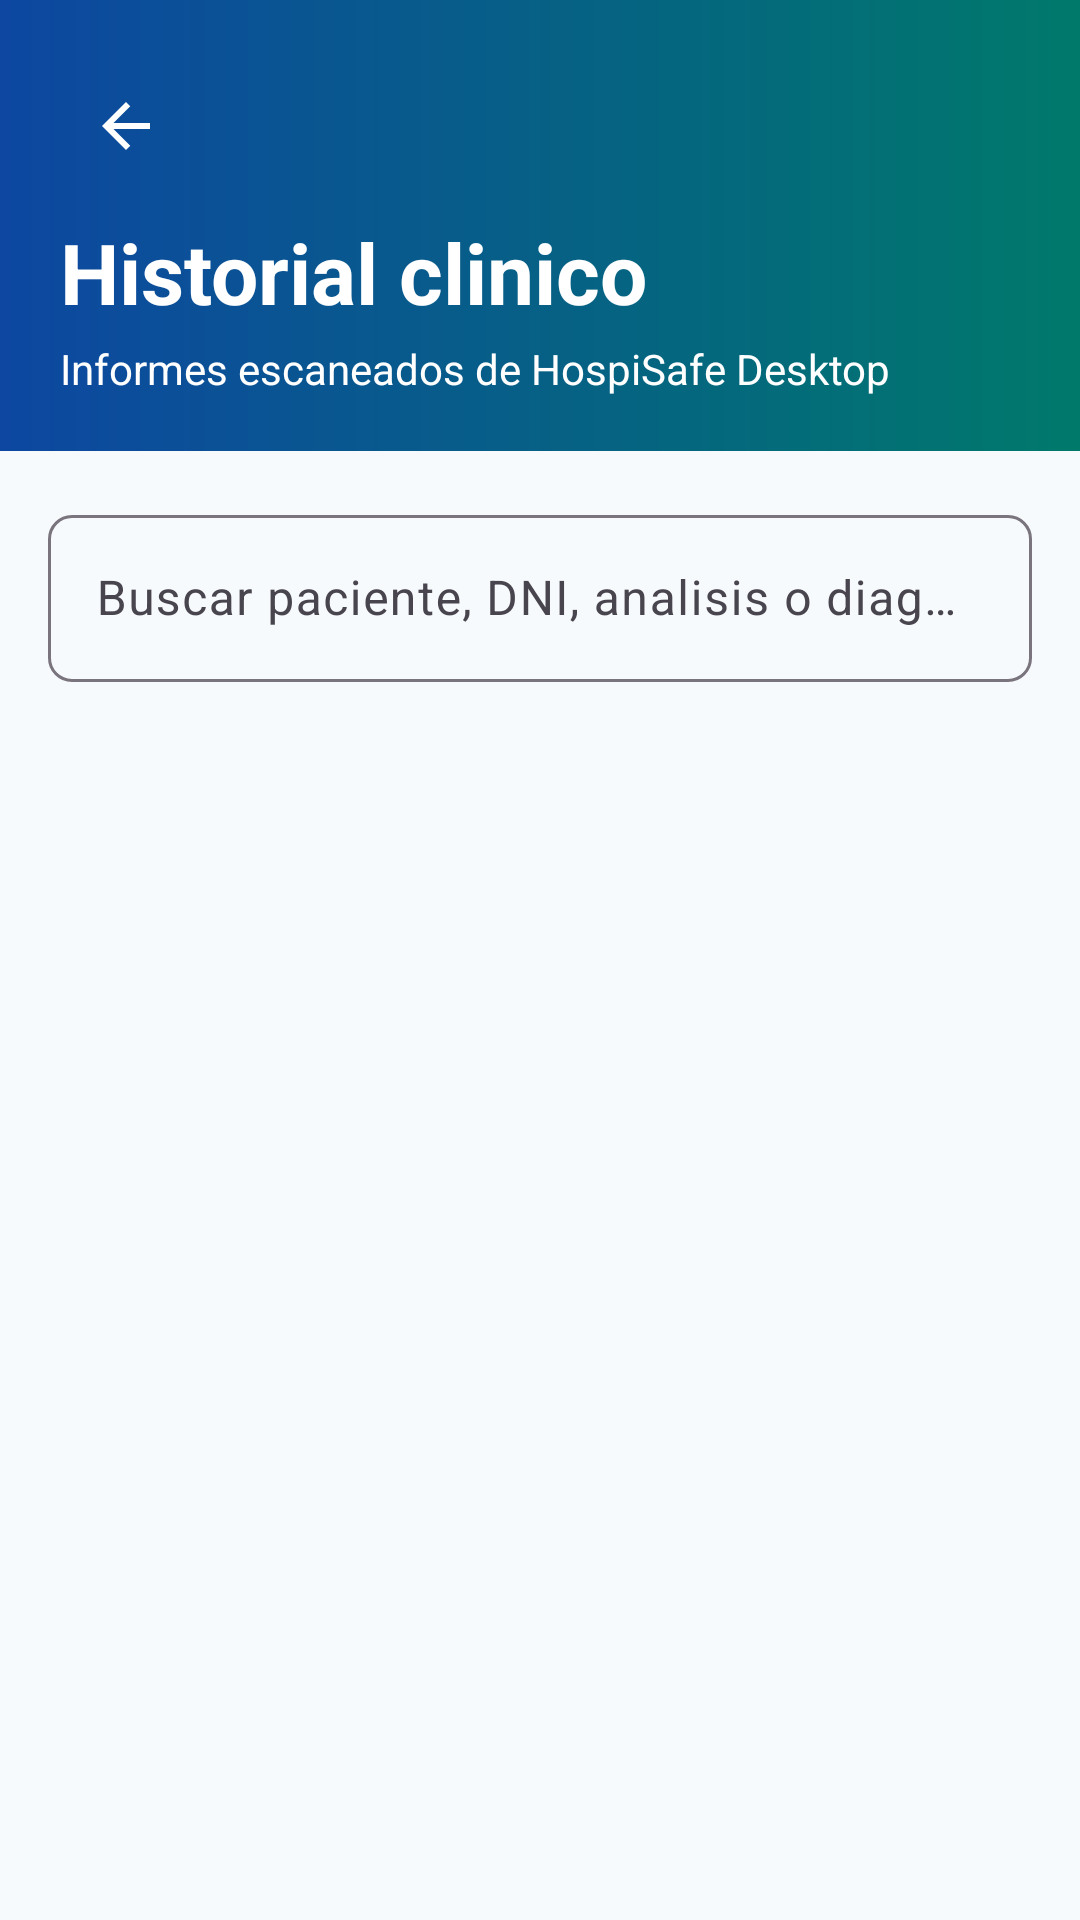

Icons on this 1080*1920 Android screen, each with its box as (x1, y1, x2, y2):
Volver: (102, 102, 150, 150)
